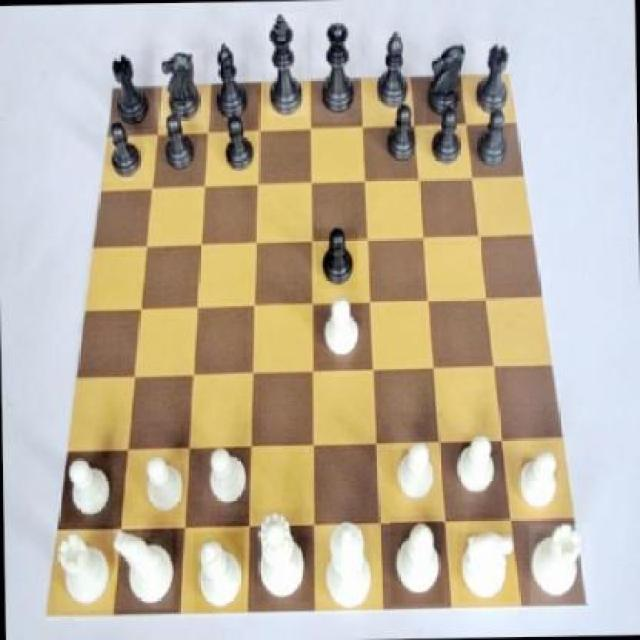bishop: (370, 29, 414, 112), (212, 36, 248, 126)
black-bishop: (264, 14, 308, 118)
black-king: (156, 50, 206, 126), (426, 34, 466, 121)
black-knight: (100, 120, 149, 183), (475, 105, 513, 177), (316, 226, 358, 289), (220, 114, 257, 183), (160, 116, 200, 176), (426, 108, 462, 172), (388, 97, 418, 166)
black-pawn: (311, 20, 361, 123)
black-queen: (111, 49, 154, 130), (477, 40, 512, 116)
black-rook: (389, 517, 445, 606), (194, 532, 246, 616)
white-bishop: (318, 522, 378, 610)
white-king: (114, 526, 173, 611), (457, 531, 516, 603)
white-knight: (63, 454, 113, 523), (202, 448, 250, 514), (138, 456, 192, 514), (394, 438, 438, 508), (449, 432, 497, 496), (515, 448, 563, 512), (320, 294, 362, 366)
white-pawn: (254, 508, 311, 602)
white-queen: (531, 524, 594, 606), (54, 528, 111, 610)
